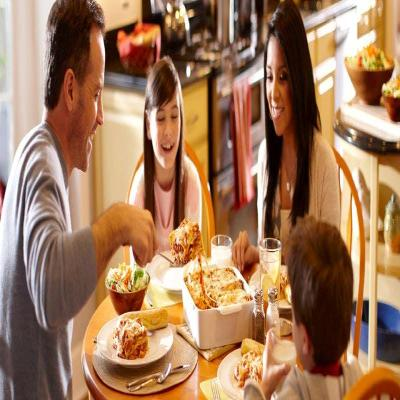happy: (74, 23, 106, 176), (266, 38, 292, 135), (150, 86, 180, 170)
